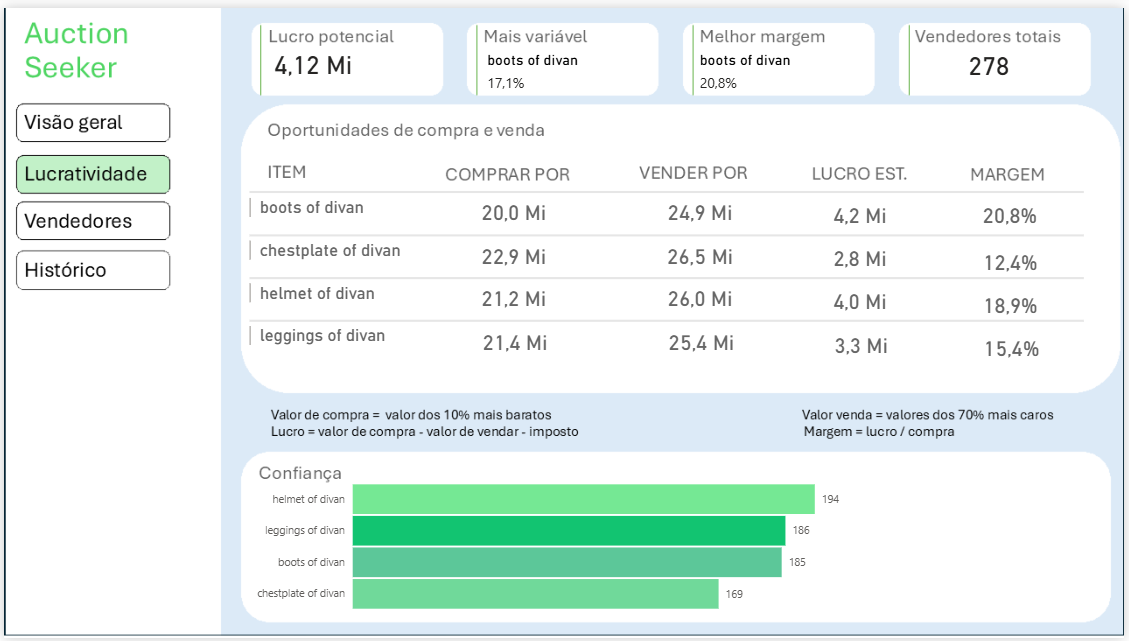

The page's visual inventory and layout, read from the dashboard file:
{"tool":"powerbi","page":{"name":"pagina 2","canvas":[1280,720],"ordinal":1},"visuals":[{"type":"multiRowCard","fields":{"Values":["public auction_items.name"]},"box":[288.2,203.1,963.3,215.4],"z":0},{"type":"card","fields":{"Values":["public auction_items.COMPRA"]},"box":[526.9,208.6,111.1,49.4],"z":0,"group":"g2"},{"type":"card","fields":{"Values":["public auction_items.VENDA"]},"box":[739.6,208.6,111.1,49.4],"z":0,"group":"g1"},{"type":"card","fields":{"Values":["public auction_items.Margem %"]},"box":[1077.3,208.6,145.3,56.2],"z":0,"group":"g4"},{"type":"card","fields":{"Values":["public auction_items.Lucro Potencial"]},"box":[920.8,211.3,113.9,49.4],"z":0,"group":"g3"},{"type":"group","id":"g1","title":"Grupo 1","box":[739.6,208.6,112.5,197.6],"z":1000},{"type":"card","fields":{"Values":["public auction_items.COMPRA"]},"box":[526.9,258,111.1,49.4],"z":1000,"group":"g2"},{"type":"card","fields":{"Values":["public auction_items.VENDA"]},"box":[739.6,258,111.1,49.4],"z":1000,"group":"g1"},{"type":"card","fields":{"Values":["public auction_items.Lucro Potencial"]},"box":[920.8,260.7,113.9,49.4],"z":1000,"group":"g3"},{"type":"card","fields":{"Values":["public auction_items.Margem %"]},"box":[1077.2,265,146.4,49.3],"z":1000,"group":"g4"},{"type":"group","id":"g2","title":"Grupo 1","box":[526.9,208.6,112.5,197.6],"z":2000},{"type":"card","fields":{"Values":["public auction_items.COMPRA"]},"box":[526.9,307.4,111.1,49.4],"z":2000,"group":"g2"},{"type":"card","fields":{"Values":["public auction_items.VENDA"]},"box":[739.6,307.4,111.1,49.4],"z":2000,"group":"g1"},{"type":"card","fields":{"Values":["public auction_items.Lucro Potencial"]},"box":[920.8,310.1,113.9,49.4],"z":2000,"group":"g3"},{"type":"card","fields":{"Values":["public auction_items.Margem %"]},"box":[1077.2,314.4,146.4,49.3],"z":2000,"group":"g4"},{"type":"group","id":"g3","title":"Grupo 1","box":[920.8,211.3,115.3,197.6],"z":3000},{"type":"card","fields":{"Values":["public auction_items.COMPRA"]},"box":[528.3,356.8,111.1,49.4],"z":3000,"group":"g2"},{"type":"card","fields":{"Values":["public auction_items.VENDA"]},"box":[741,356.8,111.1,49.4],"z":3000,"group":"g1"},{"type":"card","fields":{"Values":["public auction_items.Lucro Potencial"]},"box":[922.2,359.5,113.9,49.4],"z":3000,"group":"g3"},{"type":"card","fields":{"Values":["public auction_items.Margem %"]},"box":[1079,363.7,146.4,49.3],"z":3000,"group":"g4"},{"type":"group","id":"g4","title":"Grupo 1","box":[1077.2,208.6,148.2,204.5],"z":4000},{"type":"actionButton","box":[17.5,110,172.5,45],"z":5000},{"type":"actionButton","box":[19.2,275.8,171.5,43.9],"z":6000},{"type":"actionButton","box":[17.5,224.2,172.5,40.8],"z":7000},{"type":"actionButton","box":[17.8,168.8,172.9,39.8],"z":8000},{"type":"card","fields":{"Values":["public auction_items.Lucro Potencial"]},"box":[275.8,17.9,155.1,91.9],"z":9000},{"type":"card","fields":{"Values":["Count(public sellers.id)"]},"box":[1031.9,32.3,94.6,63.5],"z":10000},{"type":"barChart","fields":{"Y":["CountNonNull(public auction_items.id)"],"Category":["public auction_items.name"]},"box":[285.4,521.4,791.8,189.4],"z":11000},{"type":"multiRowCard","fields":{"Values":["public auction_items.Valor Melhor Margem","public auction_items.Item Melhor Margem"]},"box":[790.6,43.8,157.5,63.1],"z":12000},{"type":"multiRowCard","fields":{"Values":["public auction_items.Valor Mais Variavel","public auction_items.Item Mais Variavel"]},"box":[547.5,43.8,165,64.4],"z":13000}]}

Visuals, with their boxes in screenshot pixels (x1, y1, x2, y2), scaled from the page's 1280x720 canvas onto the 1129x641 screenshot:
multiRowCard - public auction_items.name: pyautogui.locateOnScreen(254, 181, 1104, 373)
card - public auction_items.COMPRA: pyautogui.locateOnScreen(465, 186, 563, 230)
card - public auction_items.VENDA: pyautogui.locateOnScreen(652, 186, 750, 230)
card - public auction_items.Margem %: pyautogui.locateOnScreen(950, 186, 1078, 236)
card - public auction_items.Lucro Potencial: pyautogui.locateOnScreen(812, 188, 913, 232)
"Grupo 1" group: pyautogui.locateOnScreen(652, 186, 752, 362)
card - public auction_items.COMPRA: pyautogui.locateOnScreen(465, 230, 563, 274)
card - public auction_items.VENDA: pyautogui.locateOnScreen(652, 230, 750, 274)
card - public auction_items.Lucro Potencial: pyautogui.locateOnScreen(812, 232, 913, 276)
card - public auction_items.Margem %: pyautogui.locateOnScreen(950, 236, 1079, 280)
"Grupo 1" group: pyautogui.locateOnScreen(465, 186, 564, 362)
card - public auction_items.COMPRA: pyautogui.locateOnScreen(465, 274, 563, 318)
card - public auction_items.VENDA: pyautogui.locateOnScreen(652, 274, 750, 318)
card - public auction_items.Lucro Potencial: pyautogui.locateOnScreen(812, 276, 913, 320)
card - public auction_items.Margem %: pyautogui.locateOnScreen(950, 280, 1079, 324)
"Grupo 1" group: pyautogui.locateOnScreen(812, 188, 914, 364)
card - public auction_items.COMPRA: pyautogui.locateOnScreen(466, 318, 564, 362)
card - public auction_items.VENDA: pyautogui.locateOnScreen(654, 318, 752, 362)
card - public auction_items.Lucro Potencial: pyautogui.locateOnScreen(813, 320, 914, 364)
card - public auction_items.Margem %: pyautogui.locateOnScreen(952, 324, 1081, 368)
"Grupo 1" group: pyautogui.locateOnScreen(950, 186, 1081, 368)
actionButton: pyautogui.locateOnScreen(15, 98, 168, 138)
actionButton: pyautogui.locateOnScreen(17, 246, 168, 285)
actionButton: pyautogui.locateOnScreen(15, 200, 168, 236)
actionButton: pyautogui.locateOnScreen(16, 150, 168, 186)
card - public auction_items.Lucro Potencial: pyautogui.locateOnScreen(243, 16, 380, 98)
card - Count(public sellers.id): pyautogui.locateOnScreen(910, 29, 994, 85)
barChart - CountNonNull(public auction_items.id) x public auction_items.name: pyautogui.locateOnScreen(252, 464, 950, 633)
multiRowCard - public auction_items.Valor Melhor Margem x public auction_items.Item Melhor Margem: pyautogui.locateOnScreen(697, 39, 836, 95)
multiRowCard - public auction_items.Valor Mais Variavel x public auction_items.Item Mais Variavel: pyautogui.locateOnScreen(483, 39, 628, 96)
